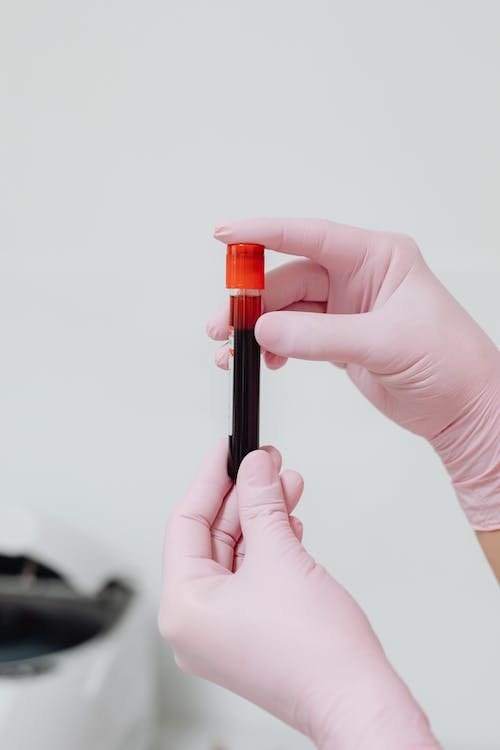blood: (226, 294, 265, 486)
